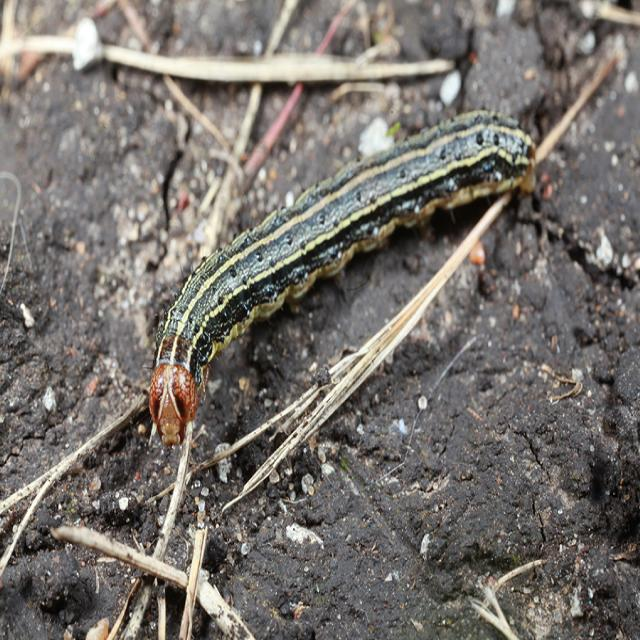pest-armyworm: (134, 99, 543, 449)
